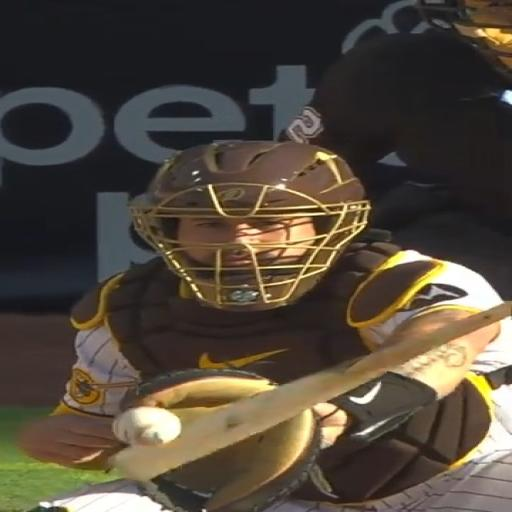bat: (110, 302, 511, 481)
